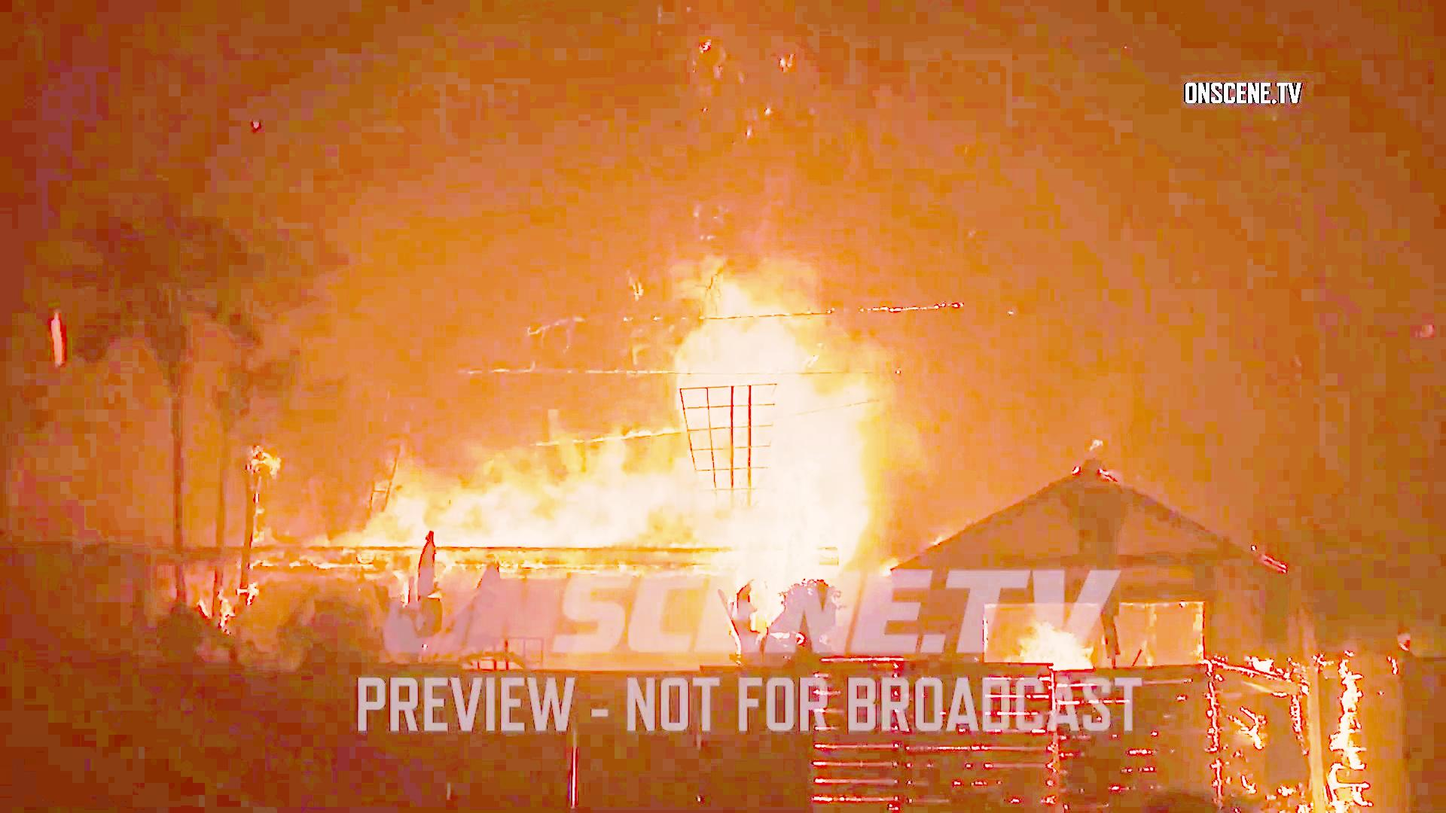fire: (254, 258, 893, 541)
